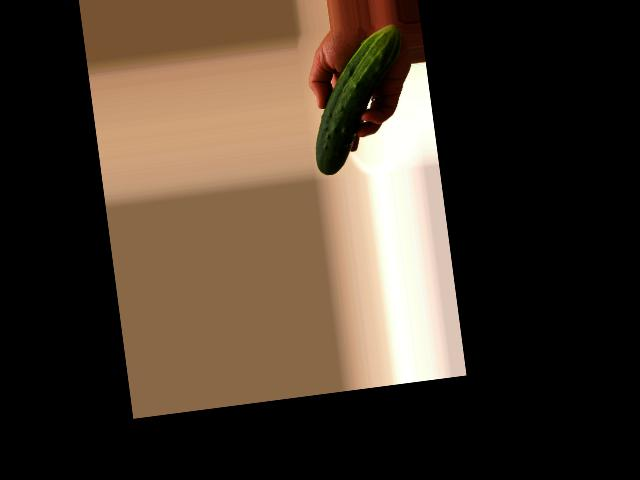cucumber: (301, 24, 418, 176)
